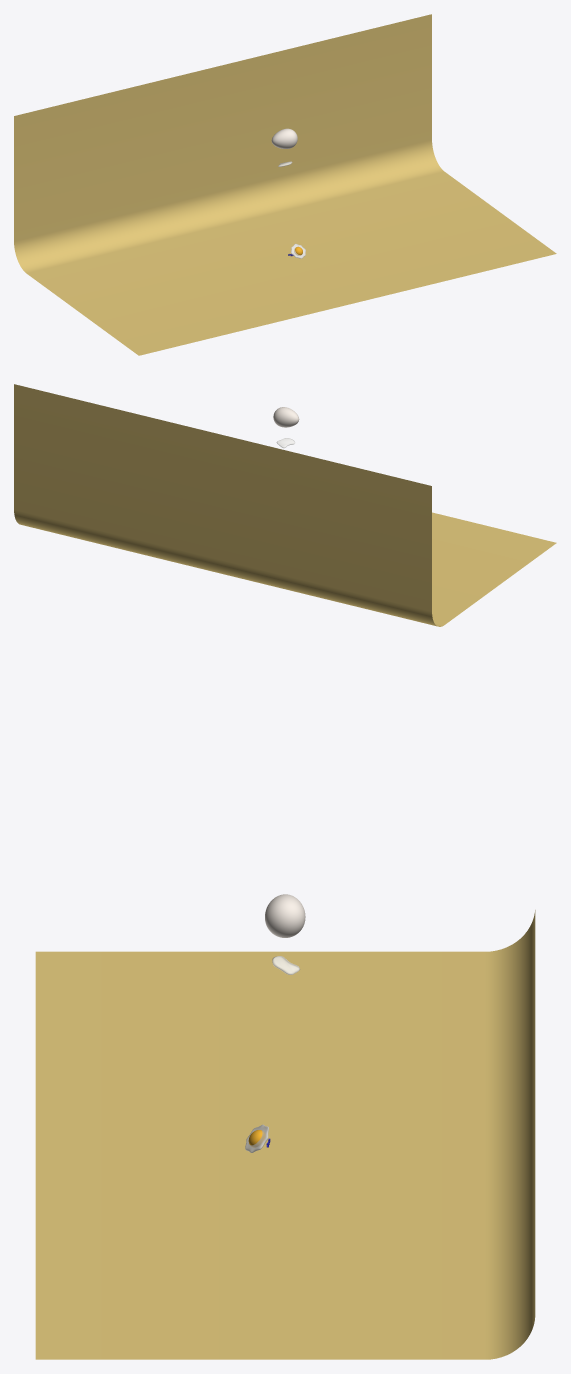
The picture shows the model from 3 angles, top to bottom: view 1: azimuth 30°, elevation 25°; view 2: azimuth 150°, elevation 25°; view 3: azimuth 270°, elevation 25°; orthographic projection. The views are drawn at different scales.
Parts seen in each view (by area): view 1: 平面; view 2: 平面; view 3: 平面, 球.001.
Part boxes in pixels (box(x1,y1,x2,y2)): 平面: box(14, 14, 556, 355); 平面: box(14, 384, 556, 626); 平面: box(35, 910, 535, 1359); 球.001: box(265, 897, 305, 937).
Size of the model in its own units: 160 by 65.23 by 82.81.
